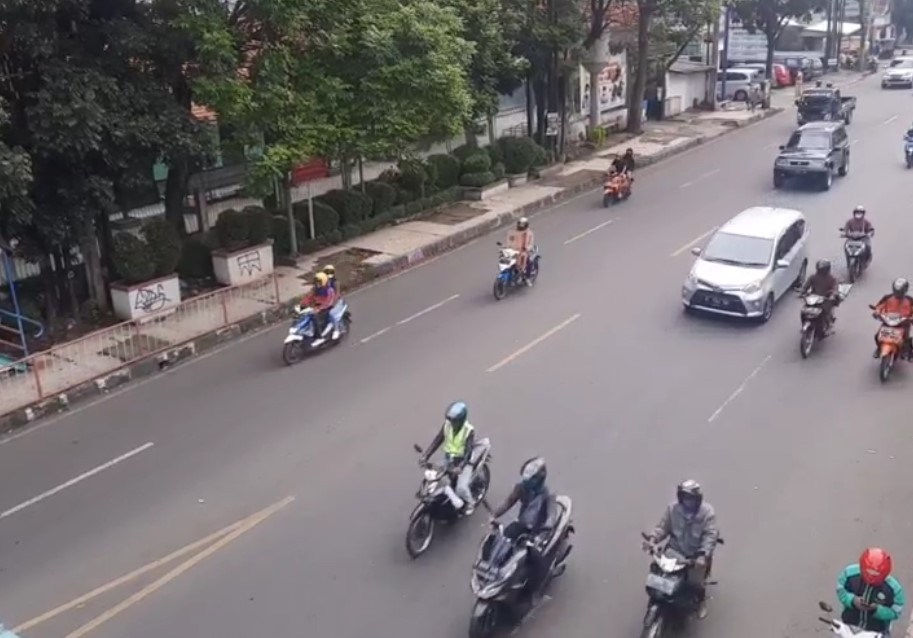motor: (459, 462, 579, 638), (617, 478, 729, 638), (393, 401, 489, 554), (273, 265, 367, 357), (863, 278, 913, 383), (482, 216, 544, 295), (796, 259, 843, 359), (838, 207, 881, 282), (592, 147, 640, 211)
